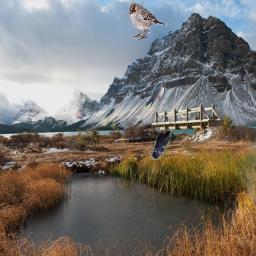Crow: (149, 120, 172, 160)
Sparrow: (128, 3, 168, 40)
Swallow: (145, 81, 166, 109)
